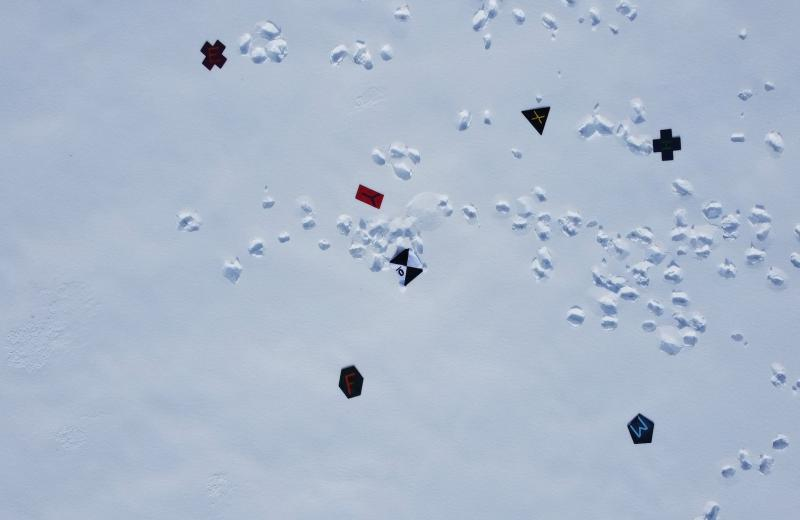Cross: (199, 36, 228, 70)
Hexagon: (338, 360, 365, 401), (652, 127, 682, 162), (520, 105, 552, 137)
Pentagon: (628, 410, 656, 445)
Quarter Circle: (353, 177, 386, 209)
